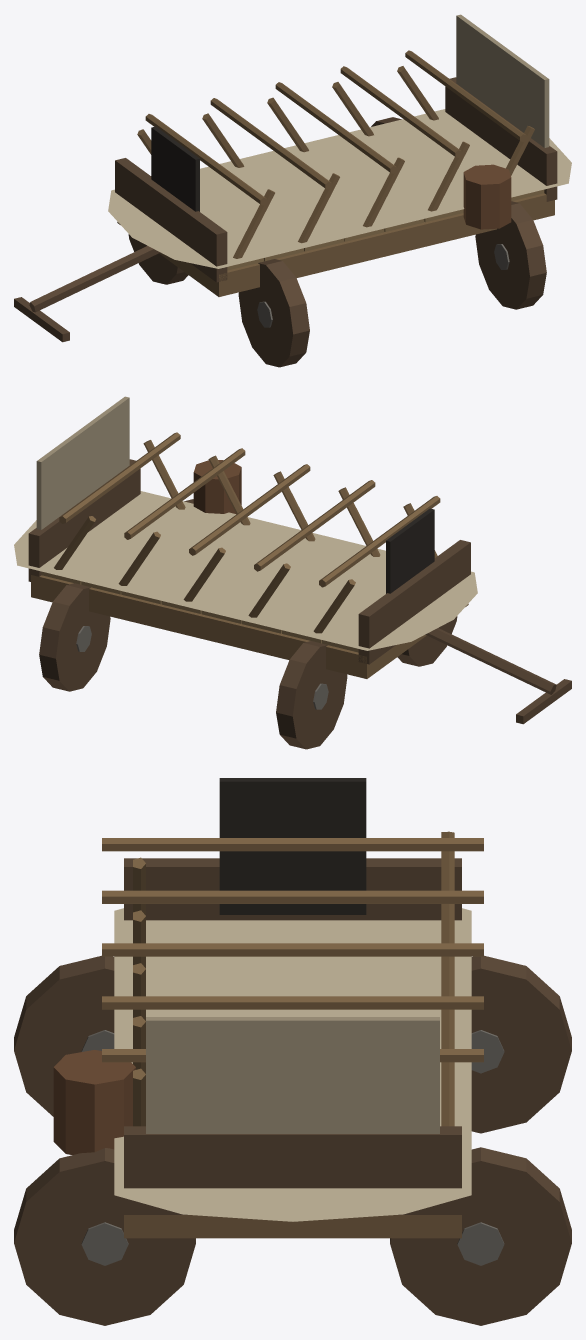
Rendered from S_CartHome.glb.
3 renders of one model, top to bottom at view 1: azimuth 30°, elevation 25°; view 2: azimuth 150°, elevation 25°; view 3: azimuth 270°, elevation 25°, orthographic. The views are drawn at different scales.
Visible parts, largest first — view 1: S_CartHome; view 2: S_CartHome; view 3: S_CartHome.
Boxes of the visible parts, left/top/right/bottom form: S_CartHome: left=14, top=14, right=571, bottom=367; S_CartHome: left=14, top=396, right=571, bottom=749; S_CartHome: left=14, top=778, right=571, bottom=1325.
Size of the model in its own units: 6.76 by 2.55 by 3.8.
